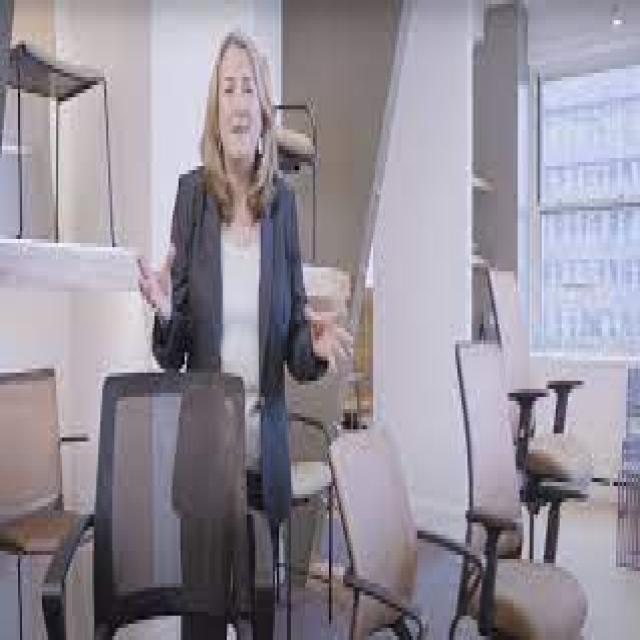chair: (36, 335, 280, 638), (442, 228, 608, 587), (433, 313, 595, 640), (308, 397, 495, 640), (0, 0, 128, 261), (0, 340, 110, 639)
